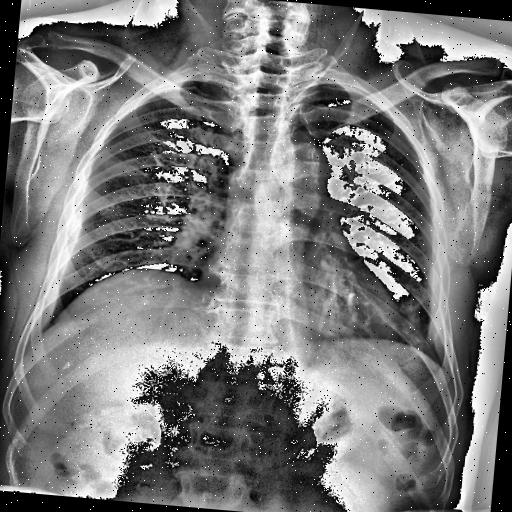0- Aortic enlargement: (264, 140, 334, 203), (268, 142, 332, 204)
11- Pleural thickening: (406, 224, 478, 367), (28, 169, 90, 333), (33, 166, 91, 332), (418, 200, 460, 366)
3- Cardiomegaly: (192, 256, 402, 339)
